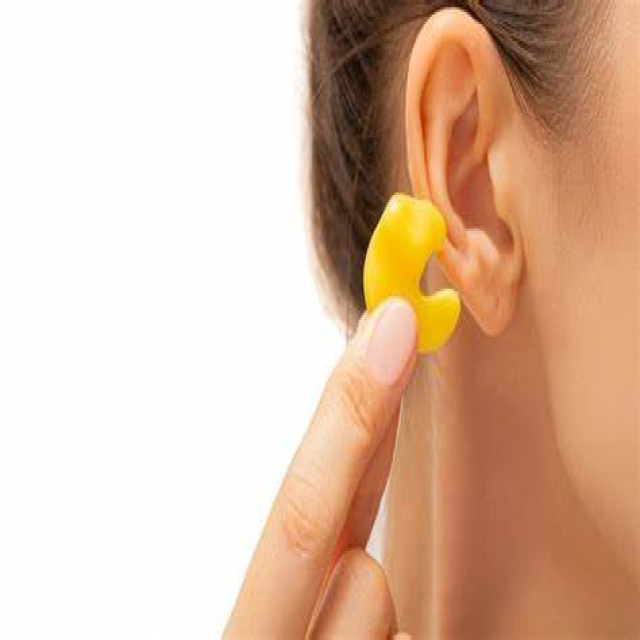Hearing_Protection: (372, 215, 457, 348)
